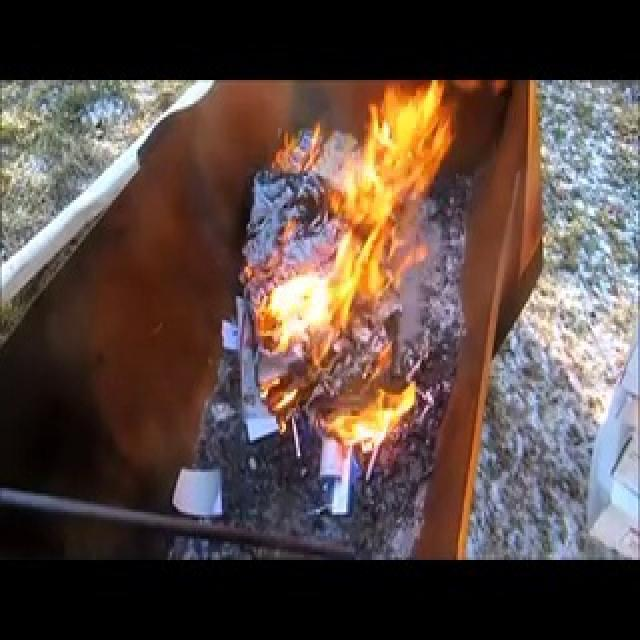fire: (228, 80, 442, 448)
